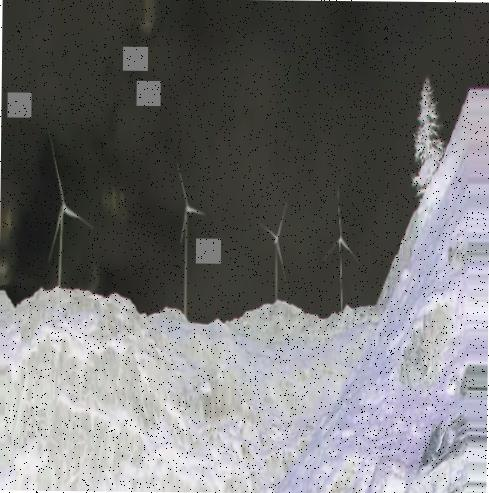wind turbine: (43, 136, 96, 290), (175, 164, 209, 324), (324, 190, 360, 309), (258, 202, 293, 303)
